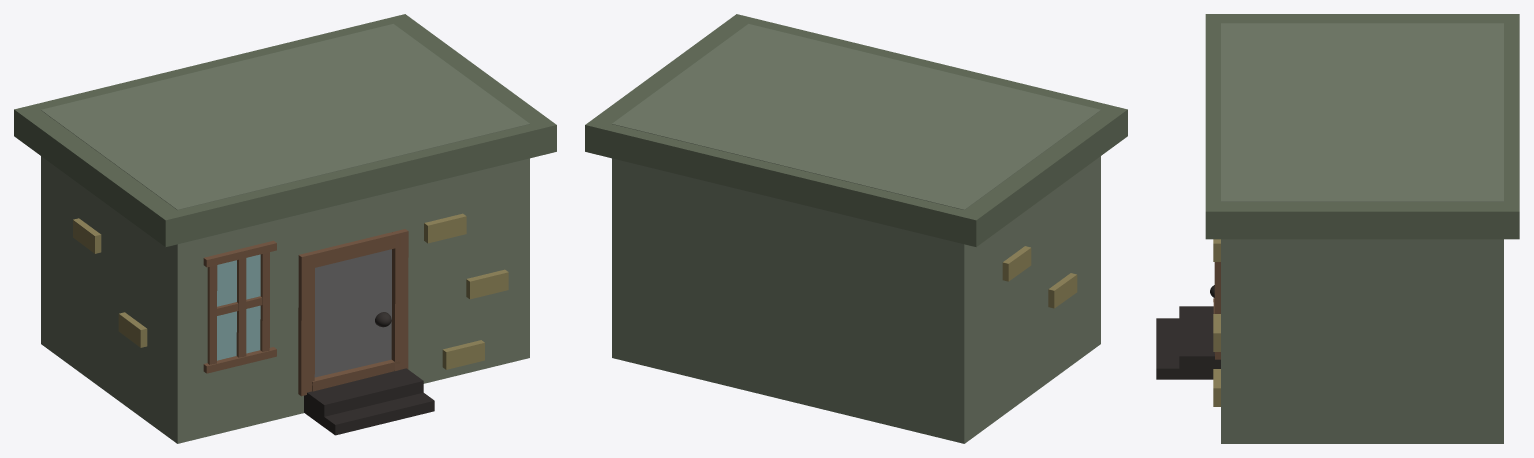
File: building#6.fbx
3 views of the same model, side by side, from view 1: azimuth 30°, elevation 25°; view 2: azimuth 150°, elevation 25°; view 3: azimuth 270°, elevation 25° (orthographic). The views are drawn at different scales.
Parts seen in each view (by area): view 1: pCube168; view 2: pCube168; view 3: pCube168.
Boxes of the visible parts, x1=… form: pCube168: x1=14, y1=14, x2=556, y2=443; pCube168: x1=585, y1=14, x2=1127, y2=443; pCube168: x1=1156, y1=14, x2=1519, y2=443.
Size of the model in its own units: 11.02 by 6.31 by 8.56.
